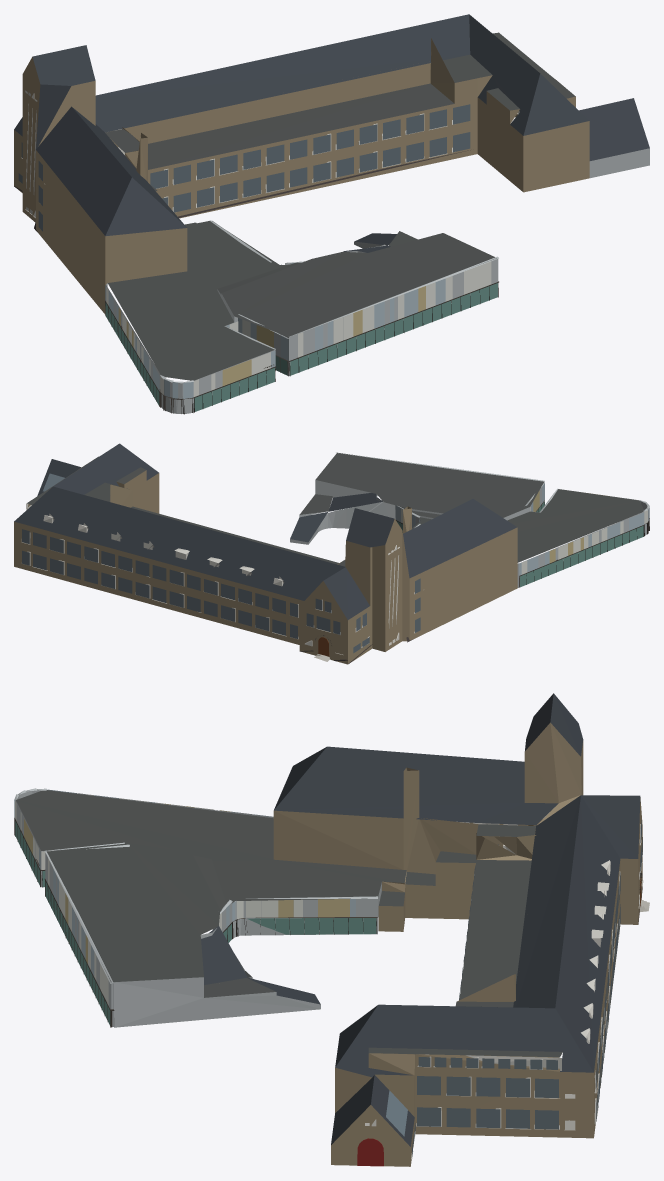
Rendered from technische-school-meeuwenlaan.lod1.glb.
3 views of the same model, one above another, from view 1: azimuth 30°, elevation 25°; view 2: azimuth 150°, elevation 25°; view 3: azimuth 270°, elevation 25° (orthographic). The views are drawn at different scales.
Parts seen in each view (by area): view 1: technische-school-meeuwenlaan; view 2: technische-school-meeuwenlaan; view 3: technische-school-meeuwenlaan.
Part boxes in pixels (left/top/right/bottom): technische-school-meeuwenlaan: left=14, top=14, right=649, bottom=414; technische-school-meeuwenlaan: left=14, top=443, right=649, bottom=664; technische-school-meeuwenlaan: left=14, top=693, right=649, bottom=1166.
Size of the model in its own units: 109 by 27.48 by 85.54.
